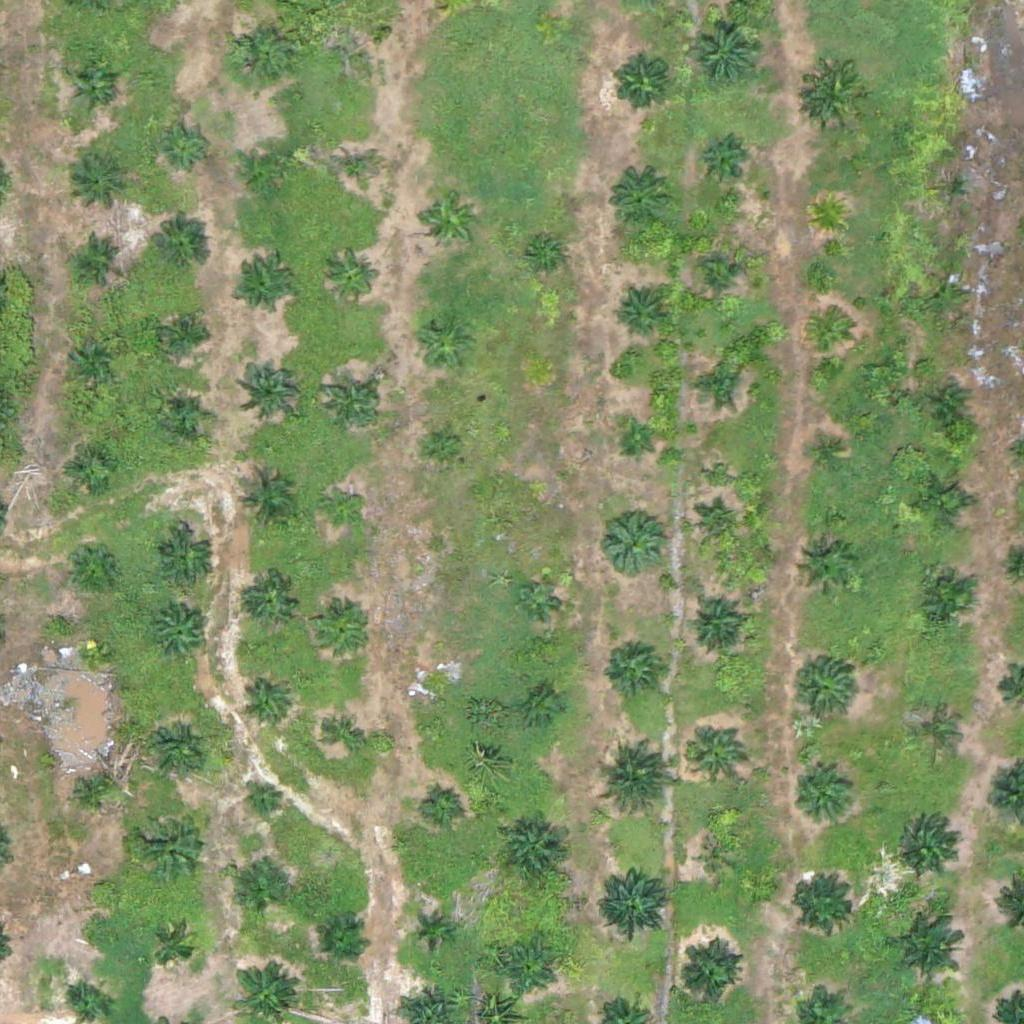Kelapa_Sawit: (135, 802, 210, 878), (889, 911, 964, 987), (594, 745, 669, 820), (596, 859, 671, 934), (686, 13, 761, 88), (600, 509, 663, 572), (411, 313, 474, 376), (154, 527, 217, 590), (803, 65, 866, 128), (676, 943, 739, 1006), (70, 151, 133, 214), (228, 22, 291, 85), (418, 190, 481, 253), (149, 220, 212, 283), (233, 258, 295, 321), (499, 819, 561, 882), (601, 636, 663, 699), (146, 719, 208, 782), (234, 471, 296, 534), (321, 372, 383, 435), (237, 355, 299, 418), (606, 168, 668, 231), (610, 51, 672, 114), (684, 593, 746, 656), (794, 873, 856, 936), (897, 815, 959, 878), (794, 537, 856, 600), (914, 570, 976, 633), (792, 657, 854, 720), (796, 768, 858, 831), (686, 722, 748, 785), (913, 471, 975, 534), (151, 606, 213, 668), (327, 251, 377, 302), (501, 946, 551, 997), (612, 289, 662, 340), (689, 359, 739, 410), (331, 145, 381, 196), (243, 143, 293, 194), (161, 120, 211, 171), (69, 62, 119, 113), (66, 539, 116, 589), (65, 443, 115, 493), (247, 574, 297, 624), (317, 606, 367, 656), (230, 869, 280, 919), (693, 139, 743, 189), (910, 708, 960, 758), (316, 916, 366, 966), (147, 925, 197, 975), (70, 765, 120, 815), (690, 502, 740, 552), (694, 253, 744, 303), (159, 309, 209, 359), (161, 393, 211, 443), (67, 329, 117, 379), (72, 234, 122, 284), (242, 678, 292, 728), (245, 780, 283, 818), (809, 196, 847, 234), (931, 385, 969, 423), (811, 318, 849, 356), (810, 438, 848, 476), (927, 276, 965, 314), (526, 239, 564, 277), (322, 491, 360, 529), (420, 674, 458, 712), (326, 716, 364, 754), (525, 690, 562, 728), (700, 839, 737, 877), (411, 912, 448, 950), (425, 788, 463, 825), (936, 170, 973, 208), (617, 422, 654, 460), (342, 20, 379, 58), (425, 428, 462, 465), (520, 578, 557, 615), (79, 640, 104, 665), (86, 875, 111, 900)
